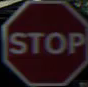Stop: (0, 8, 82, 74)
